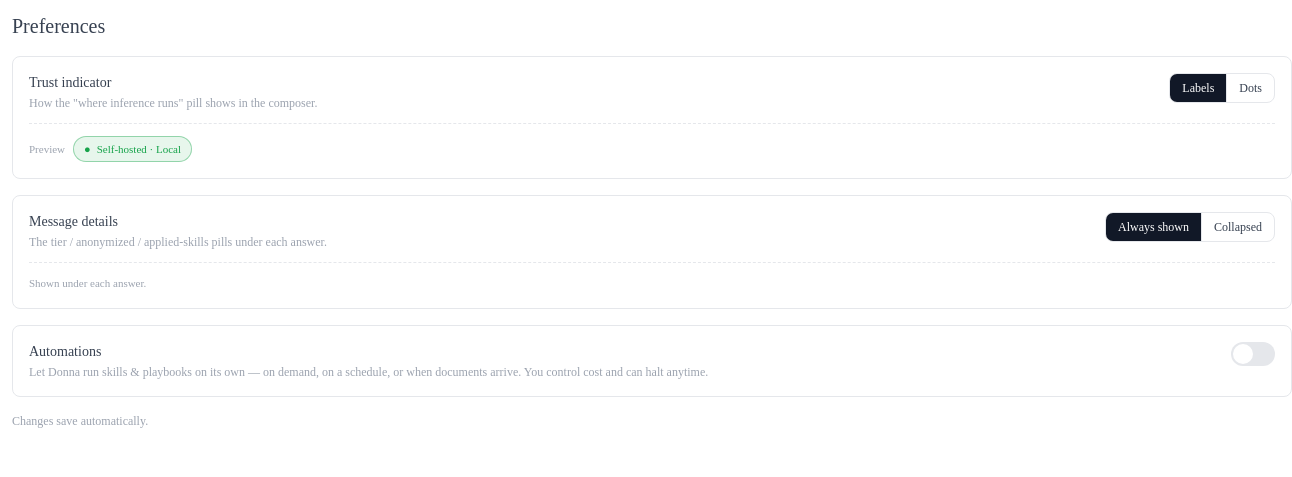
Scenario: /settings/preferences page › reverts and shows an error when the PATCH fails
Click the radio button labelled "Collapsed": [1238, 227] box [1201,213,1274,241]
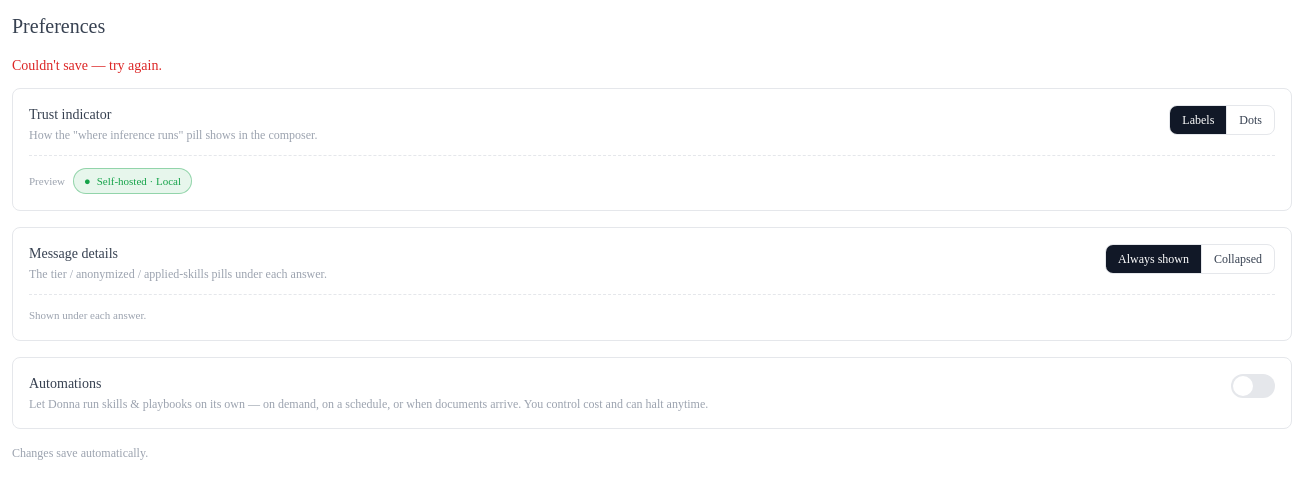
expect the text "Couldn't save — try again." is shown: met, box [12,58,162,73]
